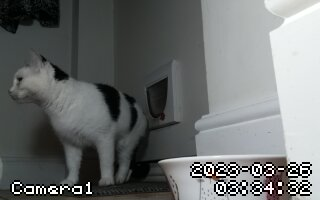bad: (8, 49, 151, 200)
